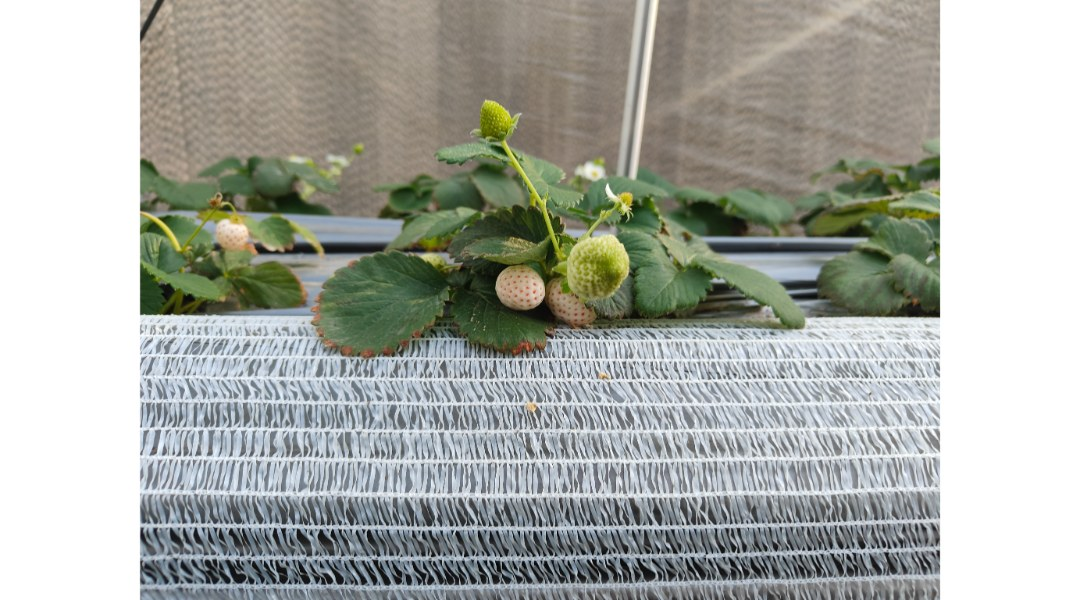berry: (566, 233, 633, 304), (487, 262, 548, 316), (549, 274, 598, 337), (472, 94, 517, 146)
strain: (501, 137, 563, 255)
